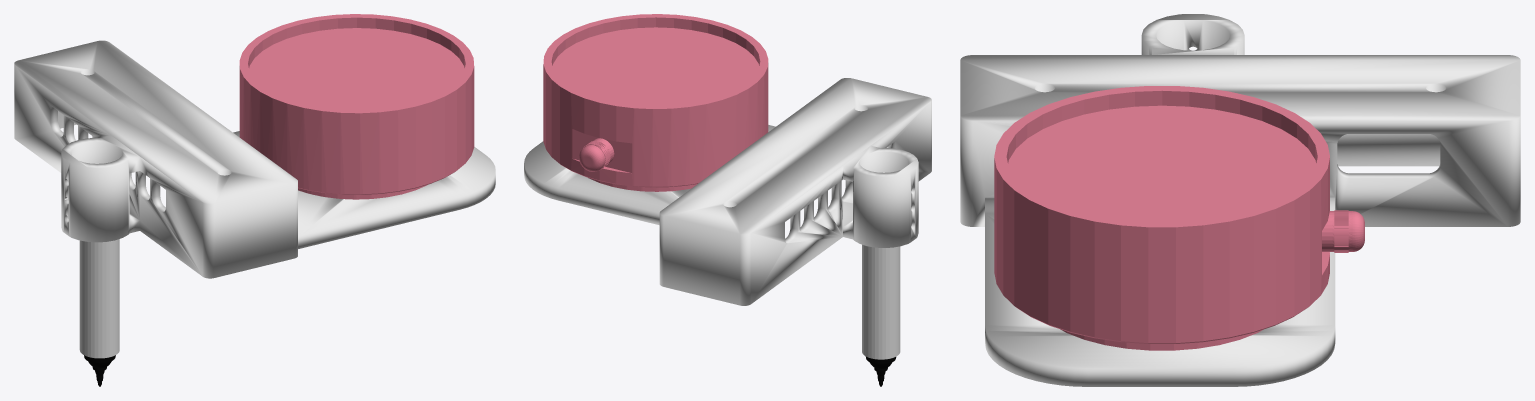
3 renders of one model, left to right at view 1: azimuth 30°, elevation 25°; view 2: azimuth 150°, elevation 25°; view 3: azimuth 270°, elevation 25°, orthographic. The views are drawn at different scales.
Visible parts, largest first — view 1: intel435i_dobot_cr5-2, Link6.002, Cylinder.004; view 2: intel435i_dobot_cr5-2, Link6.002, Cylinder.004, Cylinder_nip part_0; view 3: Link6.002, intel435i_dobot_cr5-2.
Boxes of the visible parts, x1=… form: intel435i_dobot_cr5-2: x1=14, y1=40, x2=495, y2=278; Link6.002: x1=239, y1=14, x2=474, y2=199; Cylinder.004: x1=79, y1=239, x2=119, y2=358; intel435i_dobot_cr5-2: x1=524, y1=78, x2=931, y2=305; Link6.002: x1=543, y1=14, x2=768, y2=191; Cylinder.004: x1=862, y1=244, x2=900, y2=359; Cylinder_nip part_0: x1=865, y1=356, x2=896, y2=386; Link6.002: x1=994, y1=86, x2=1364, y2=350; intel435i_dobot_cr5-2: x1=960, y1=14, x2=1520, y2=386.
Bounding box in the file's own units: 0.1541 × 0.1368 × 0.1045.
